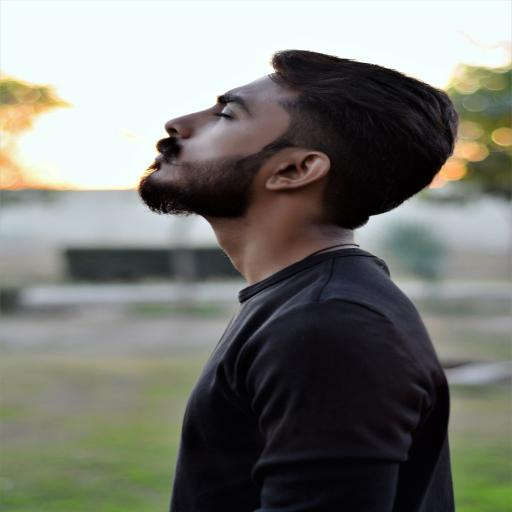person: (138, 49, 459, 511)
